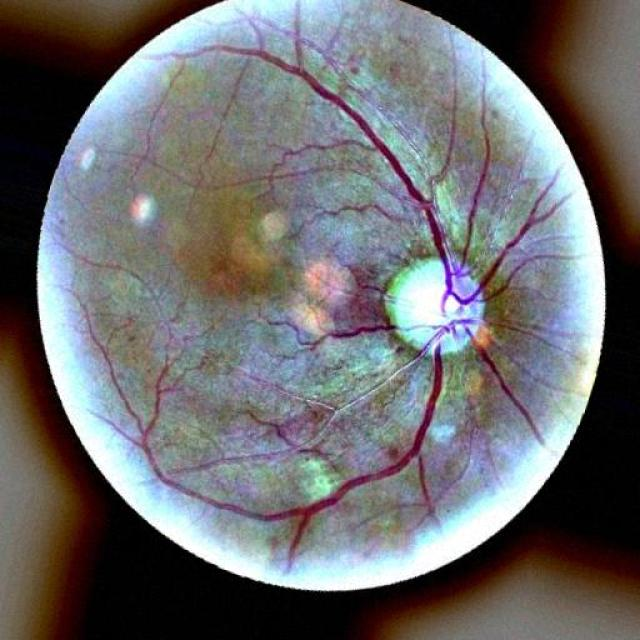Optic Disk: (384, 258, 482, 360)
